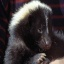skunk: (4, 1, 64, 64)
